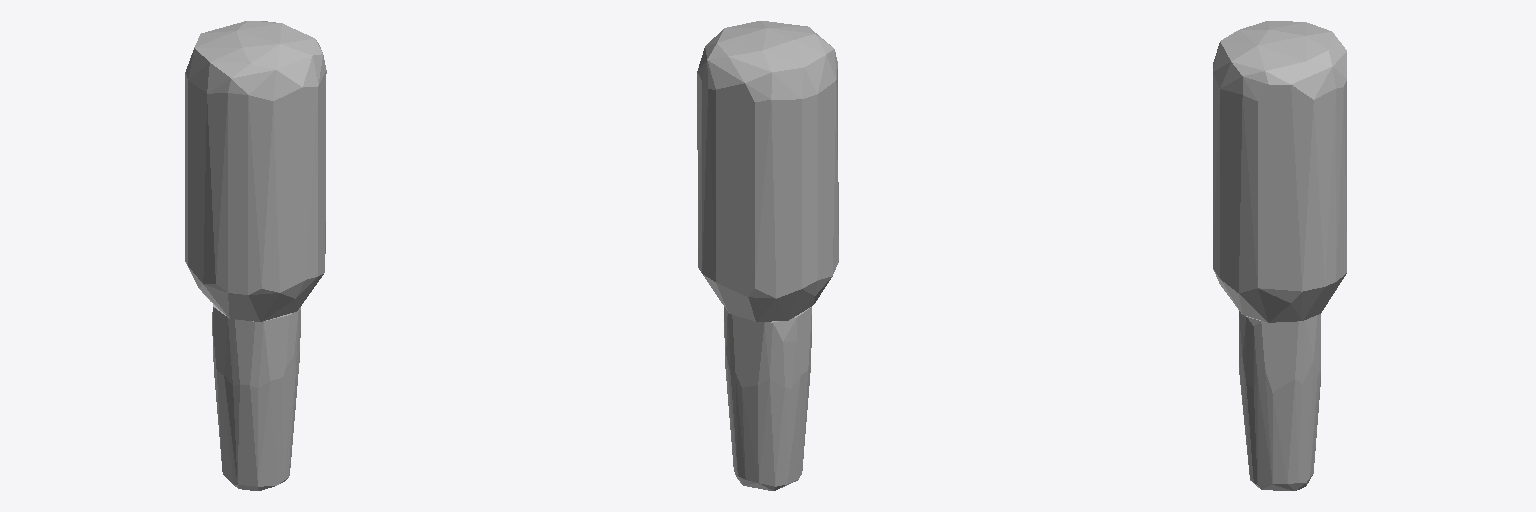
The robot description file, URDF, robot "root":
<robot name="root">
  <link name="link_970027a2c9f1de88c123147a914238ea_convex_piece_0">
    <inertial>
      <origin rpy="0 0 0" xyz="0 0 0"/>
      <mass value="3.19E-05"/>
      <inertia ixx="6.61E-08" ixy="-2.60E-12" ixz="1.02E-11" iyy="6.61E-08" iyz="2.98E-11" izz="2.97E-09"/>
    </inertial>
    <visual>
      <origin rpy="0 0 0" xyz="0 0 0"/>
      <geometry>
        <mesh filename="970027a2c9f1de88c123147a914238ea_convex_piece_0.obj" scale="1.0000E+00"/>
      </geometry>
      <material name="">
        <color rgba="7.50E-01 7.50E-01 7.50E-01 1"/>
      </material>
    </visual>
    <collision>
      <origin rpy="0 0 0" xyz="0 0 0"/>
      <geometry>
        <mesh filename="970027a2c9f1de88c123147a914238ea_convex_piece_0.obj" scale="1.0000E+00"/>
      </geometry>
    </collision>
  </link>
  <link name="link_970027a2c9f1de88c123147a914238ea_convex_piece_1">
    <inertial>
      <origin rpy="0 0 0" xyz="0 0 0"/>
      <mass value="1.37E-04"/>
      <inertia ixx="2.13E-07" ixy="1.35E-10" ixz="-2.65E-10" iyy="2.13E-07" iyz="-2.80E-10" izz="3.64E-08"/>
    </inertial>
    <visual>
      <origin rpy="0 0 0" xyz="0 0 0"/>
      <geometry>
        <mesh filename="970027a2c9f1de88c123147a914238ea_convex_piece_1.obj" scale="1.0000E+00"/>
      </geometry>
      <material name="">
        <color rgba="7.50E-01 7.50E-01 7.50E-01 1"/>
      </material>
    </visual>
    <collision>
      <origin rpy="0 0 0" xyz="0 0 0"/>
      <geometry>
        <mesh filename="970027a2c9f1de88c123147a914238ea_convex_piece_1.obj" scale="1.0000E+00"/>
      </geometry>
    </collision>
  </link>
  <joint name="link_970027a2c9f1de88c123147a914238ea_convex_piece_1_joint" type="fixed">
    <origin rpy="0 0 0" xyz="0 0 0"/>
    <parent link="link_970027a2c9f1de88c123147a914238ea_convex_piece_0"/>
    <child link="link_970027a2c9f1de88c123147a914238ea_convex_piece_1"/>
  </joint>
</robot>

--- Render facts (derived) ---
3 views of the same robot in one strip: view 1: azimuth 30°, elevation 25°; view 2: azimuth 150°, elevation 25°; view 3: azimuth 270°, elevation 25° (orthographic).
Robot: root — 2 links, 1 joints (1 fixed); root link link_970027a2c9f1de88c123147a914238ea_convex_piece_0; default pose: every joint at zero.
Visible links, largest first — view 1: link_970027a2c9f1de88c123147a914238ea_convex_piece_1, link_970027a2c9f1de88c123147a914238ea_convex_piece_0; view 2: link_970027a2c9f1de88c123147a914238ea_convex_piece_1, link_970027a2c9f1de88c123147a914238ea_convex_piece_0; view 3: link_970027a2c9f1de88c123147a914238ea_convex_piece_1, link_970027a2c9f1de88c123147a914238ea_convex_piece_0.
Link boxes in pixels (x1,y1,x2,y2): link_970027a2c9f1de88c123147a914238ea_convex_piece_1: [185, 21, 326, 321]; link_970027a2c9f1de88c123147a914238ea_convex_piece_0: [212, 304, 300, 490]; link_970027a2c9f1de88c123147a914238ea_convex_piece_1: [697, 21, 838, 321]; link_970027a2c9f1de88c123147a914238ea_convex_piece_0: [724, 307, 811, 490]; link_970027a2c9f1de88c123147a914238ea_convex_piece_1: [1213, 21, 1346, 322]; link_970027a2c9f1de88c123147a914238ea_convex_piece_0: [1239, 311, 1320, 490].
Bounding box of the posed robot: 0.0458 × 0.0458 × 0.1655 m (x, y, z).
2 mesh visuals loaded from 2 distinct referenced files (2 OBJ).